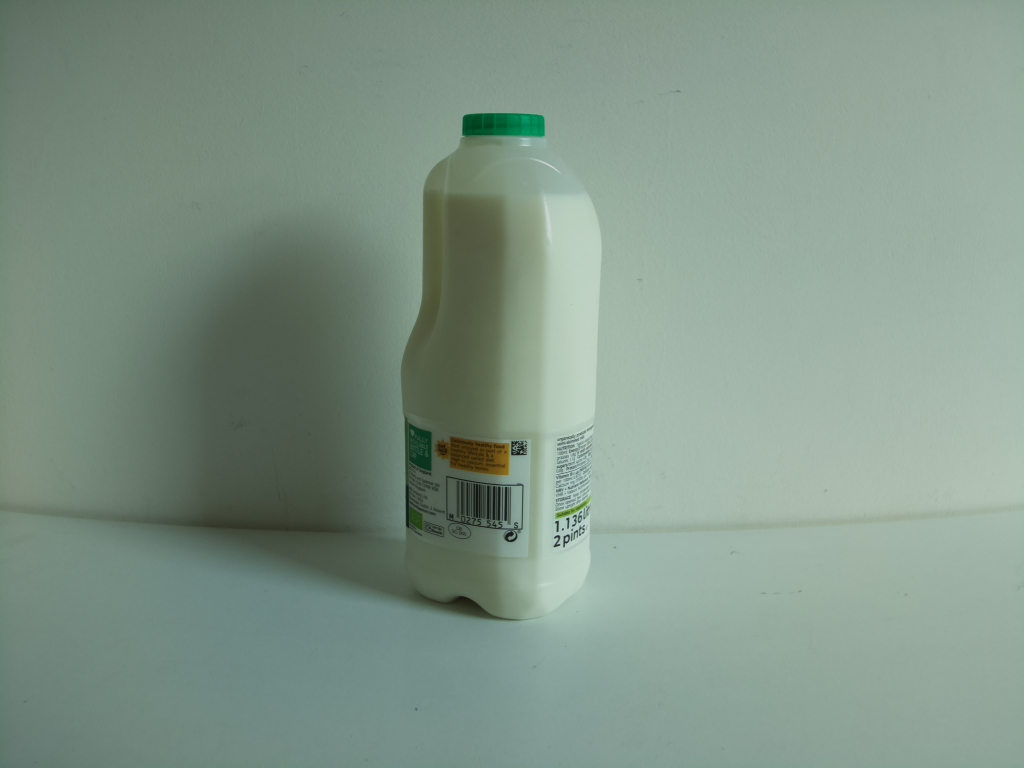milk: (398, 110, 608, 624)
